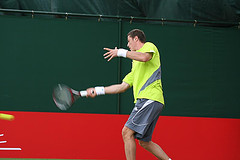tennis ball: (1, 111, 16, 122)
